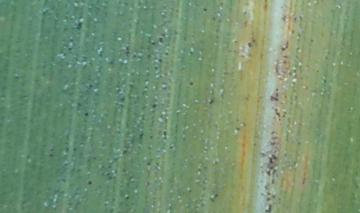tarspot: (265, 165, 278, 186), (279, 39, 290, 52), (267, 93, 279, 103), (247, 37, 256, 48), (124, 44, 131, 57), (279, 14, 288, 24), (75, 20, 83, 30), (264, 203, 272, 213), (106, 58, 115, 66), (161, 129, 167, 140), (208, 97, 215, 106), (270, 152, 279, 159), (160, 30, 167, 38), (158, 36, 164, 45), (152, 65, 159, 72), (150, 40, 156, 48), (201, 6, 208, 12), (187, 80, 193, 87), (151, 102, 157, 109), (157, 57, 164, 63), (121, 149, 128, 155), (66, 46, 73, 52), (86, 180, 94, 185), (83, 111, 89, 117), (88, 83, 94, 89), (125, 194, 130, 201)
